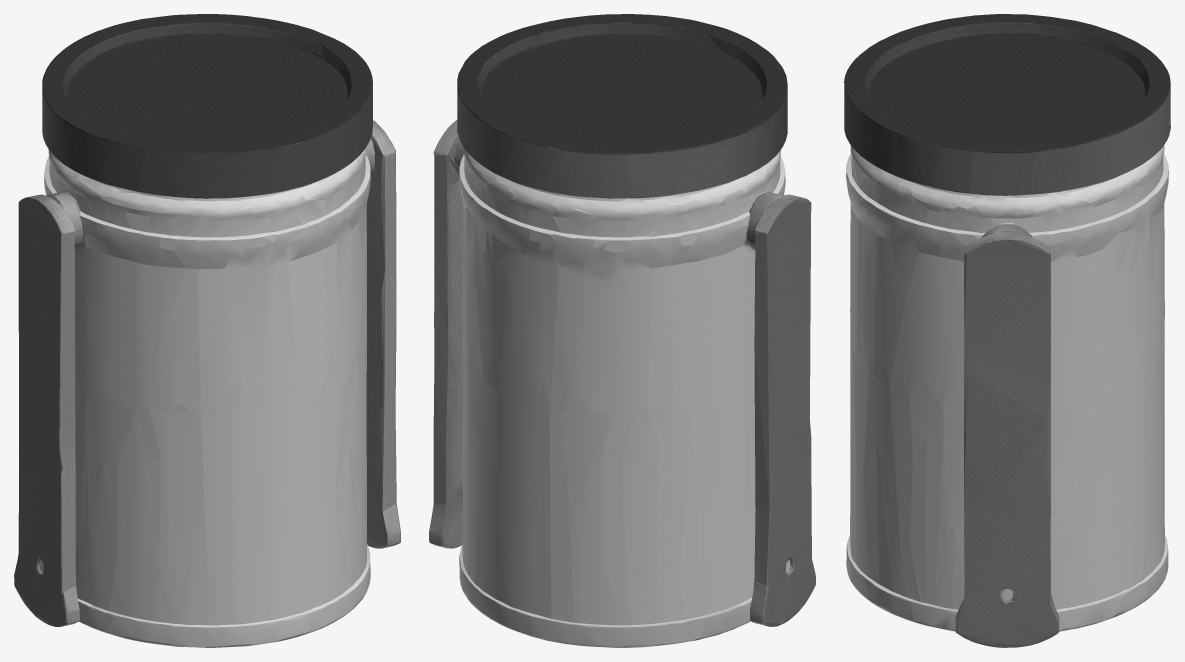
3 renders of one model, left to right at view 1: azimuth 30°, elevation 25°; view 2: azimuth 150°, elevation 25°; view 3: azimuth 270°, elevation 25°, orthographic. The views are drawn at different scales.
Size of the model in its own units: 1.34 by 1.9 by 1.15.
Materials: 1 (1 with a texture image).
